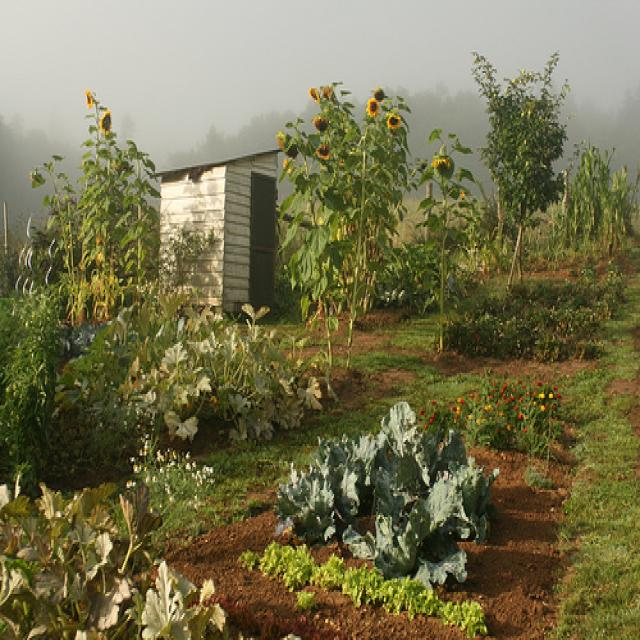sunflower: (316, 138, 336, 168), (97, 104, 113, 138), (432, 156, 454, 177), (309, 114, 332, 134), (366, 94, 380, 121), (84, 85, 98, 112), (384, 110, 401, 132), (308, 84, 322, 106)
